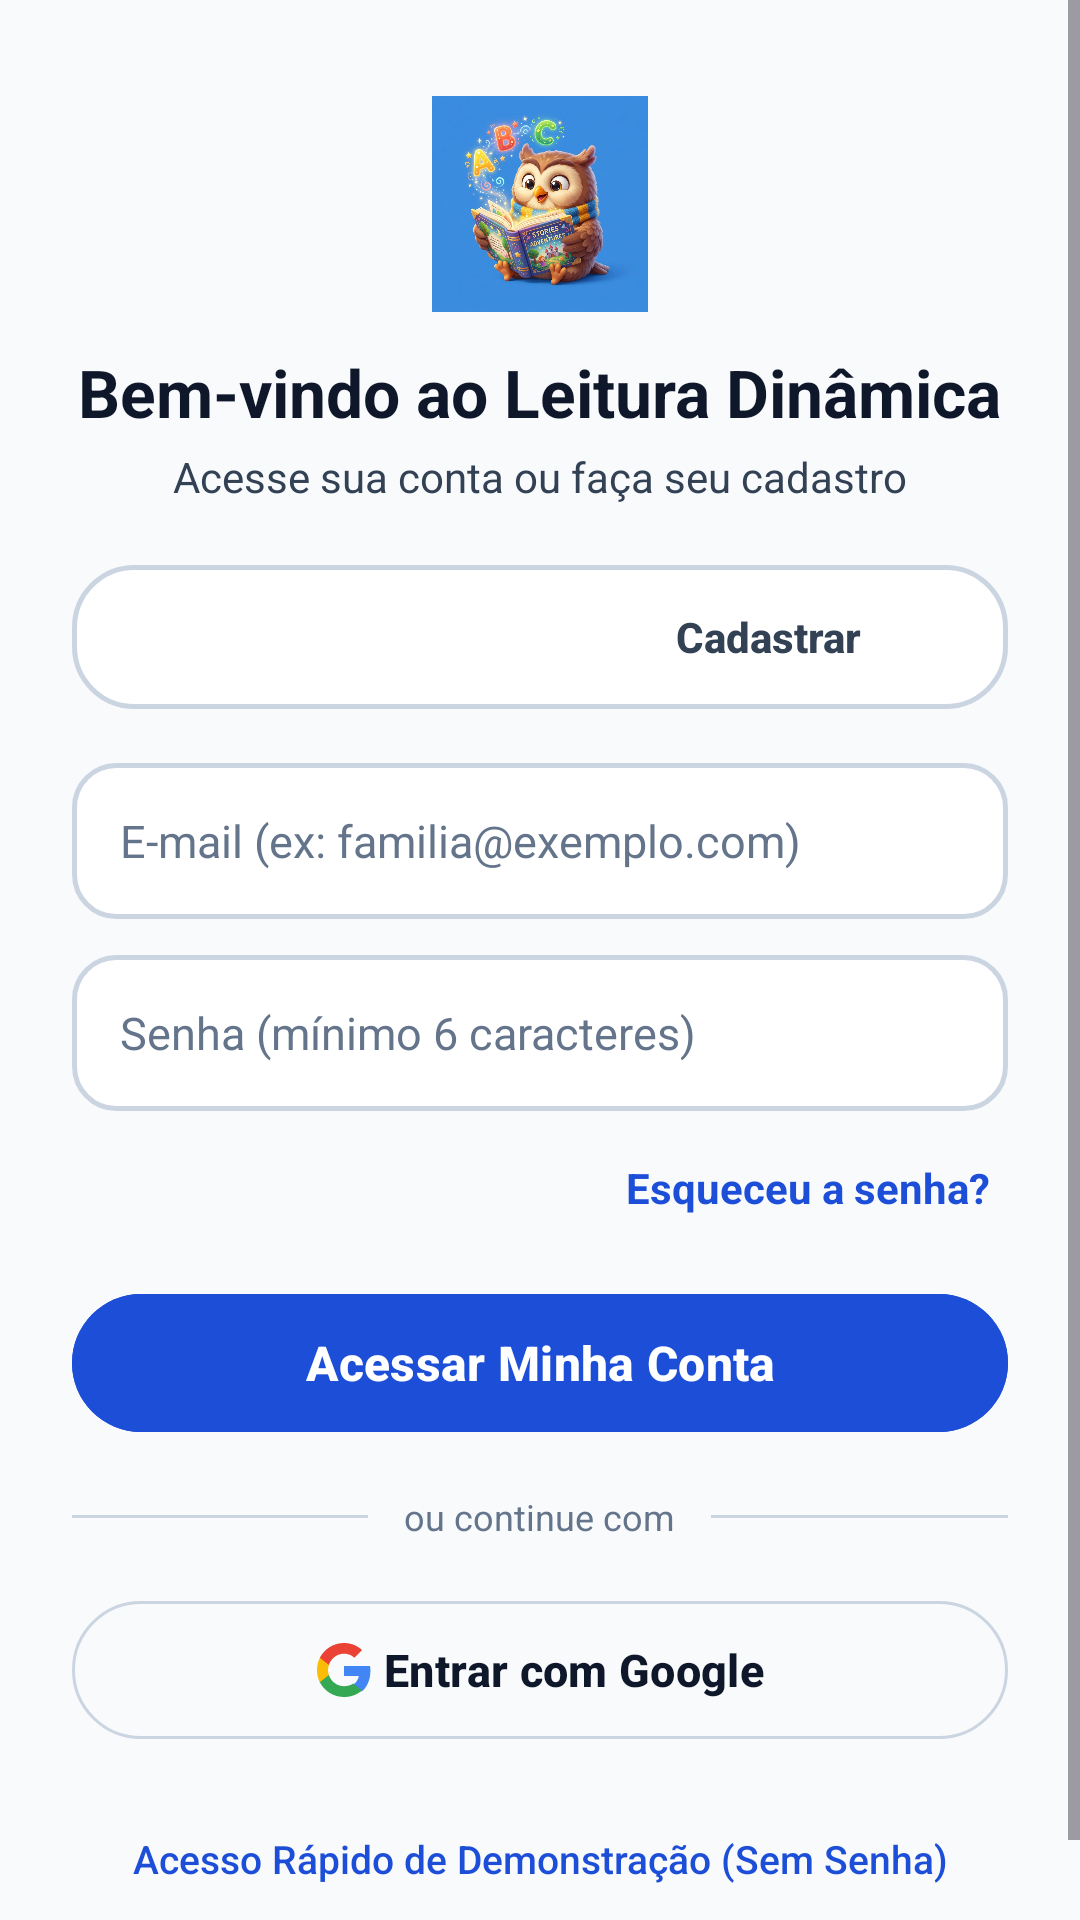

Icons on this 1080×1920 Android screen, each with its box as region(x1, y1, x2, y2):
Mascote: region(432, 96, 648, 312)
